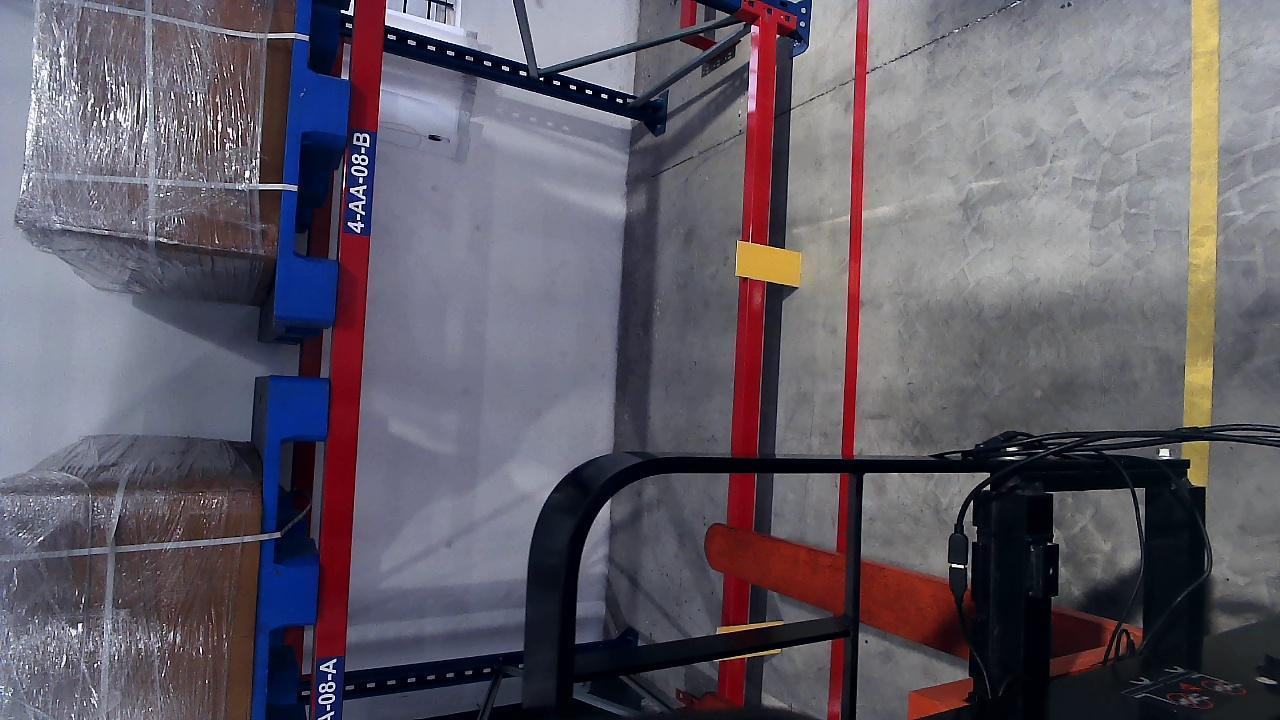red_line: (837, 9, 869, 591)
yellow_line: (1181, 0, 1221, 425)
